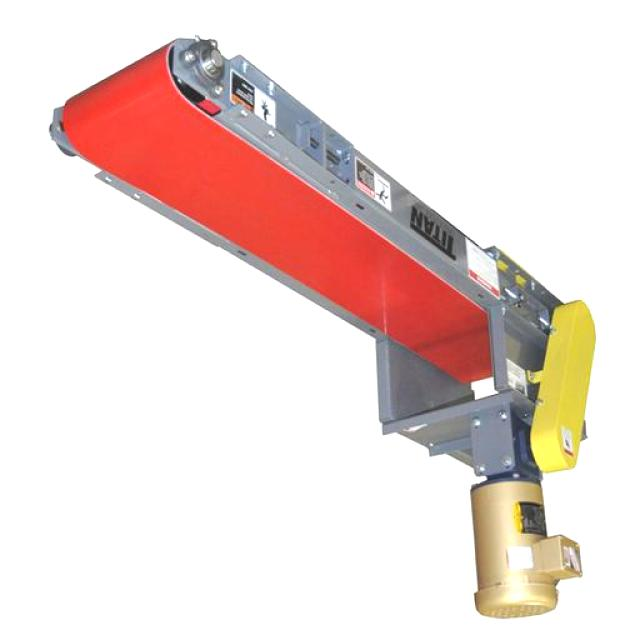conveyor: (56, 42, 501, 385)
